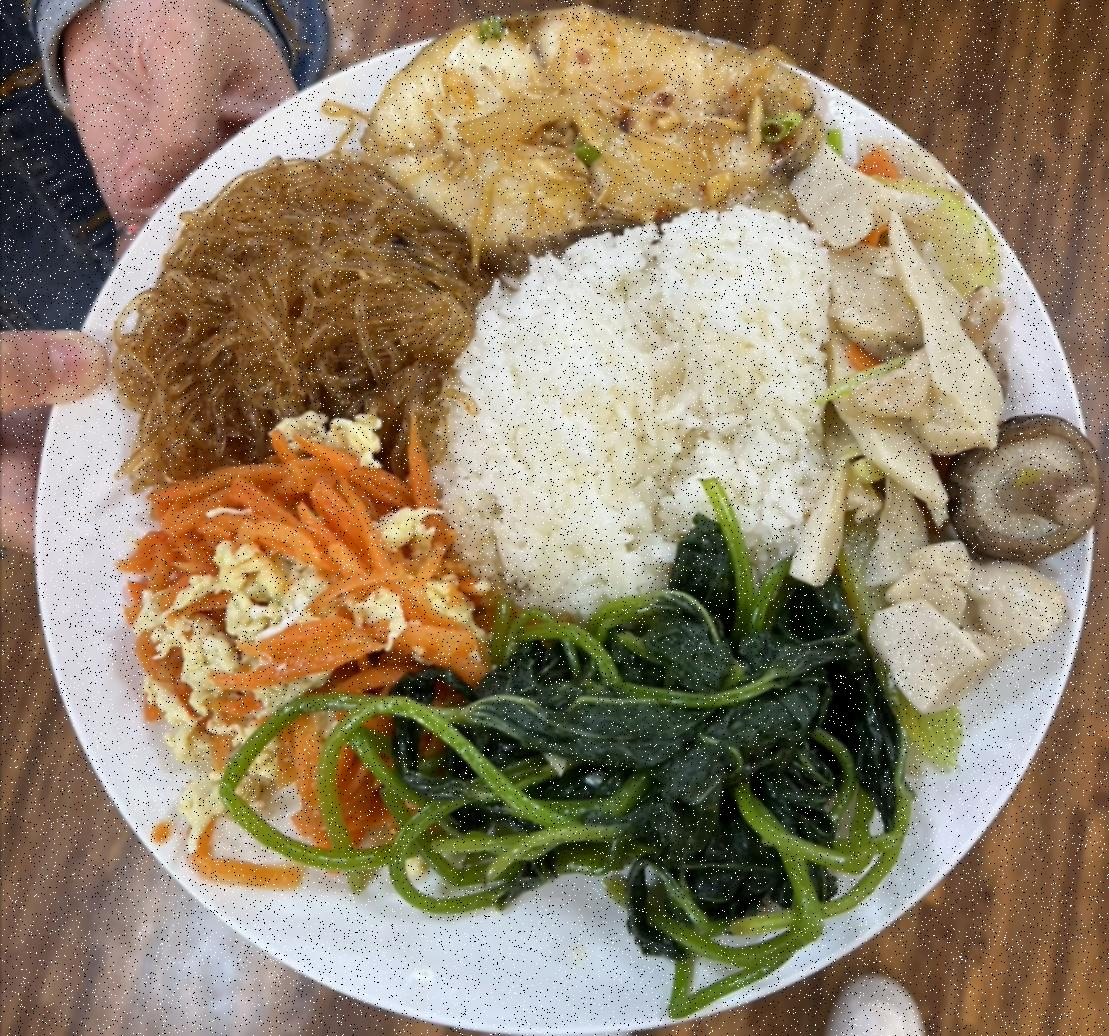big fried chicken leg: (31, 10, 1098, 1036)
big herbal chicken leg: (440, 213, 834, 614)
braised fish fillet: (217, 528, 890, 976), (781, 151, 1095, 710), (113, 423, 478, 810), (112, 143, 468, 476)
braised pork ribs: (353, 8, 826, 266)
